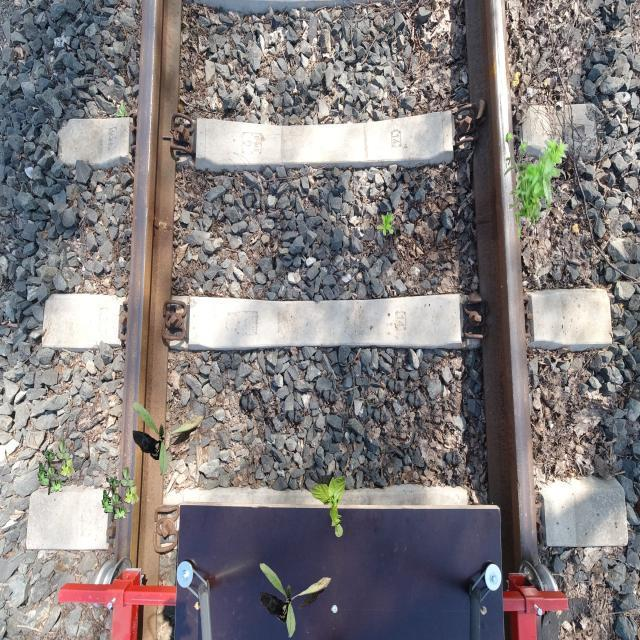Plant: (504, 130, 568, 238), (260, 563, 332, 638), (132, 401, 203, 476), (310, 475, 346, 538), (38, 440, 76, 495), (102, 467, 140, 522), (376, 212, 394, 236), (114, 101, 128, 116)
